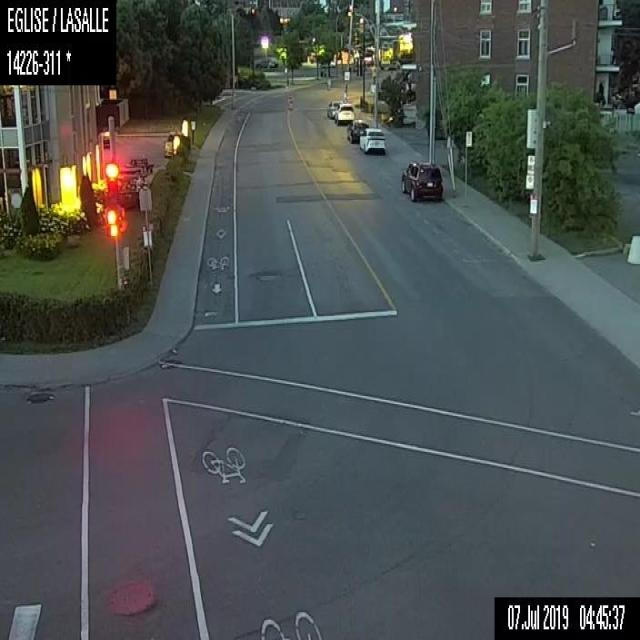vehicle: (398, 158, 443, 202), (358, 126, 386, 156), (345, 117, 368, 143), (333, 101, 354, 124), (255, 57, 278, 71), (326, 99, 340, 118)
